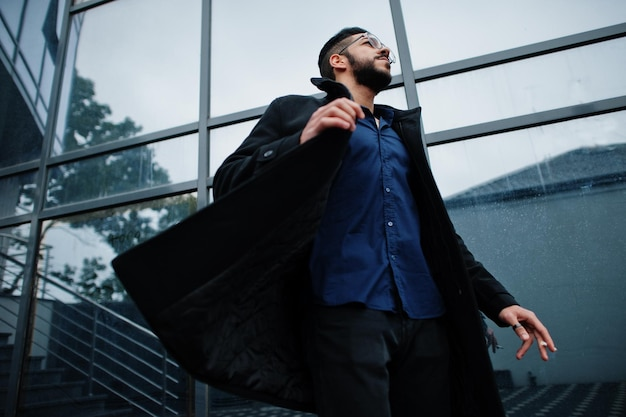cigarette: (538, 339, 554, 351)
